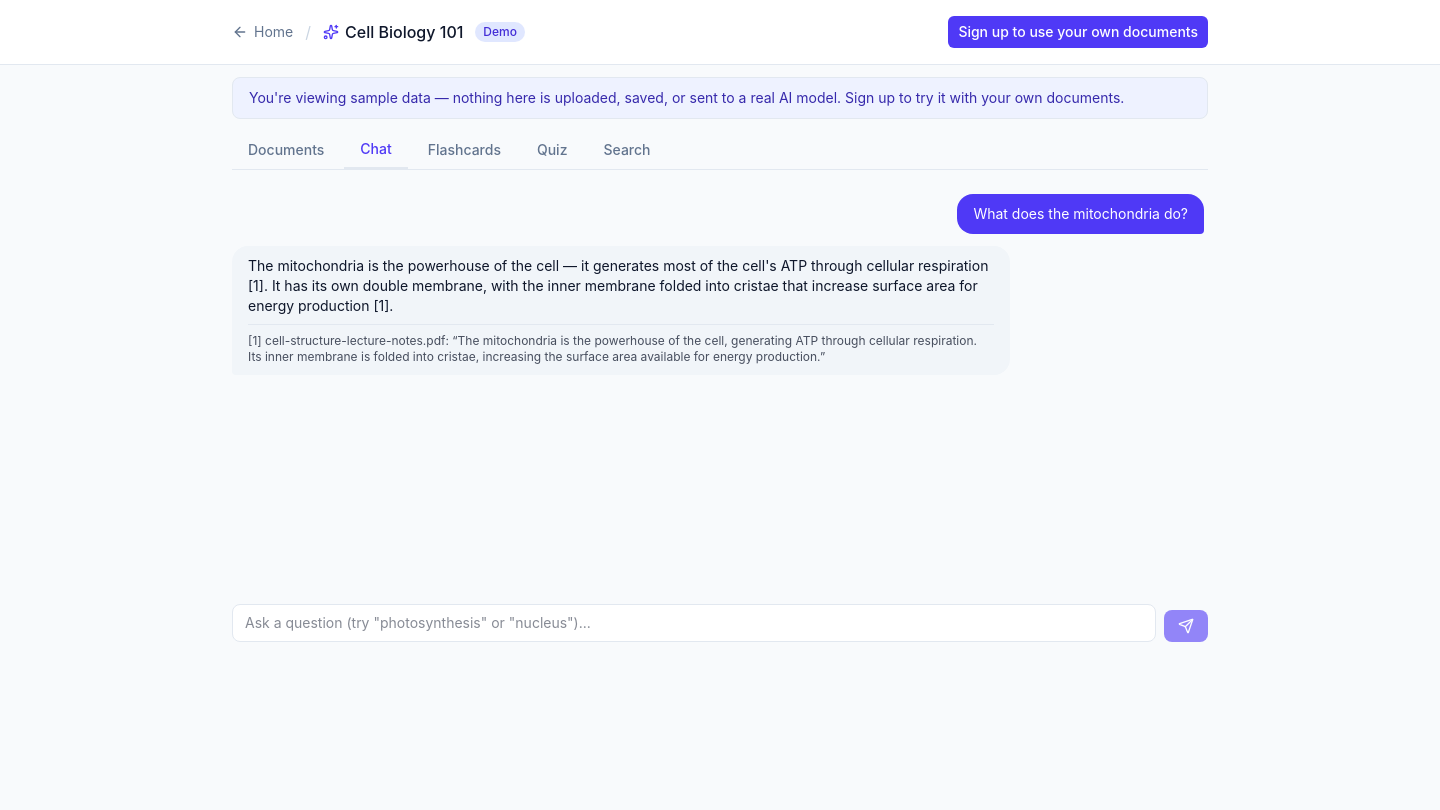
Test: DemoPage › lets a visitor send a chat message and get a canned reply
Expected: the text "What does the mitochondria do?" is shown, [973, 204, 1188, 224]
Type "Tell me about photosynthesis" into the text box with placeholder "Ask a question (try \"photosynthesis\" or \"nucleus\")...". click: coordinates (694, 623)
box: [232, 604, 1156, 642]
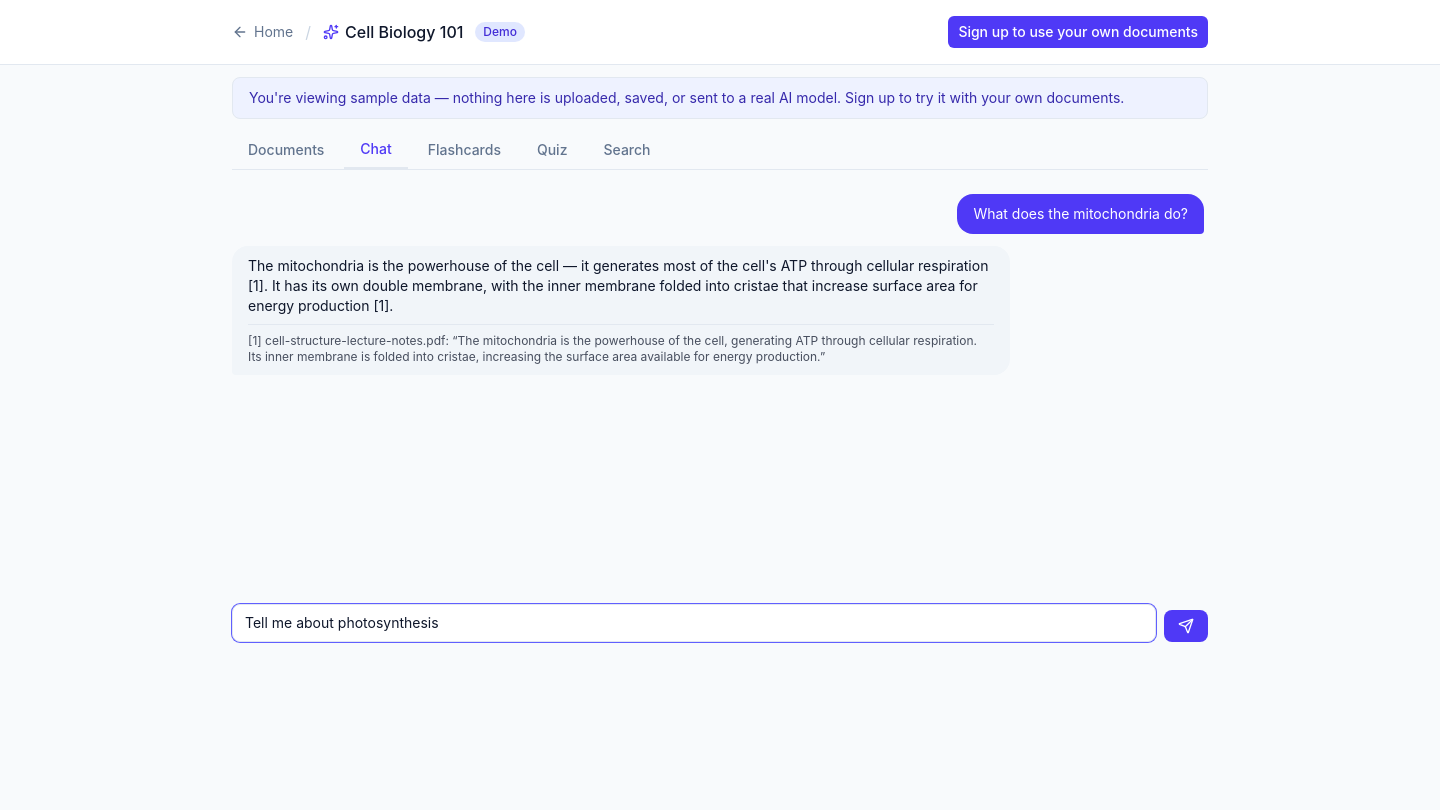
Click the button named "send message". click: coordinates (1186, 626)
box: [1164, 610, 1208, 642]
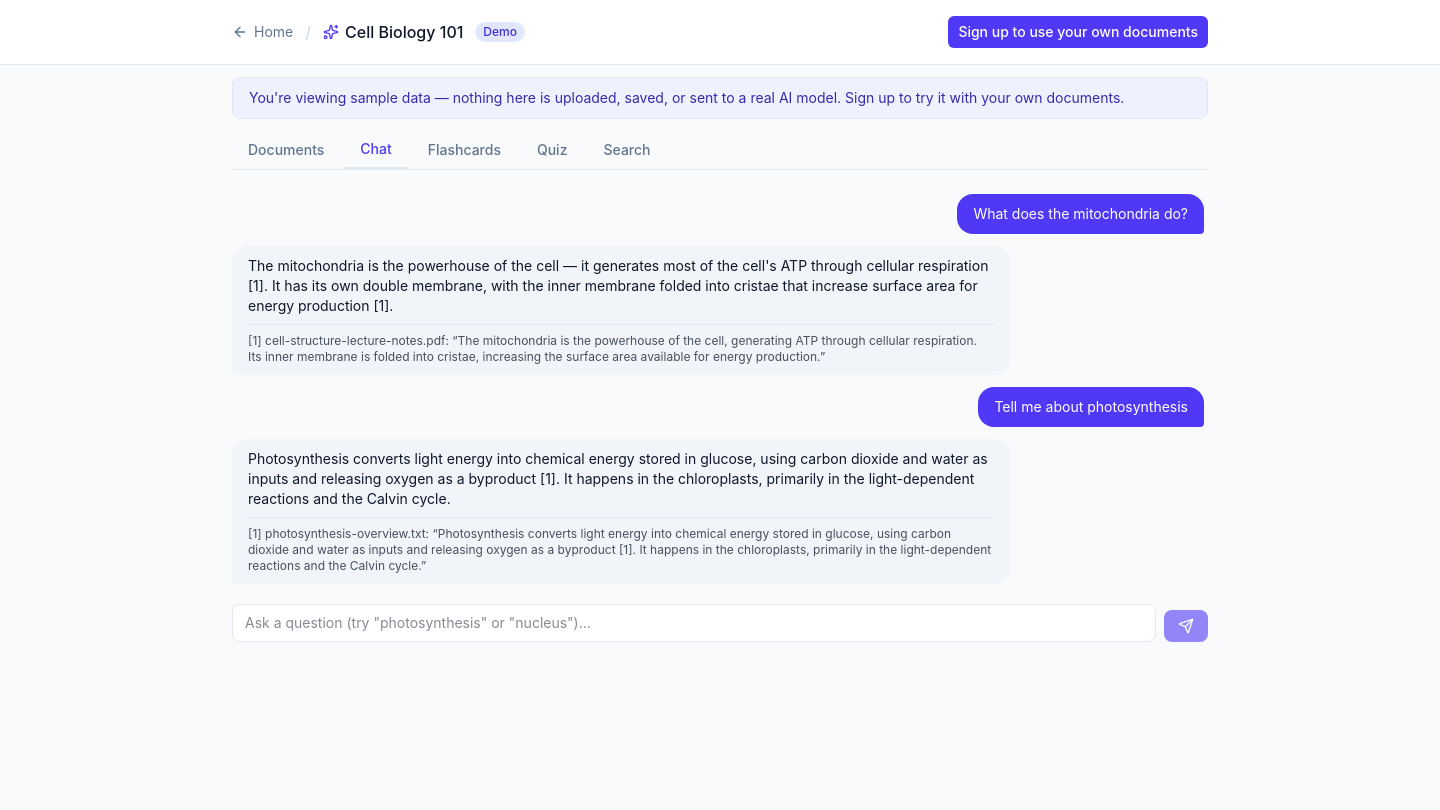
Expected: the text "Tell me about photosynthesis" is shown, [994, 397, 1188, 417]
Expected: the text "Photosynthesis converts light energy" is shown, [248, 450, 992, 507]
